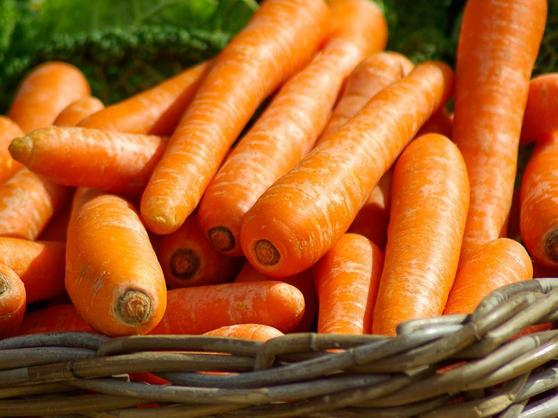carrot: (66, 189, 171, 331)
